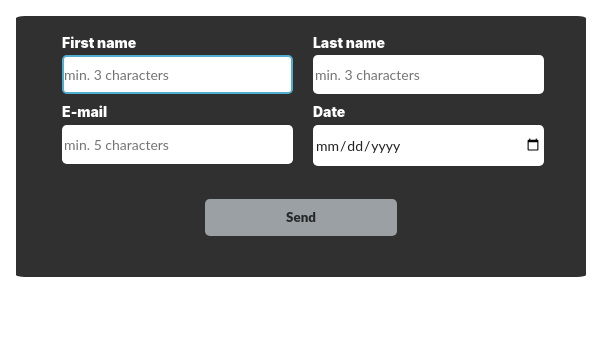
INTEGRATION › EventPicker › Inputs filling › Should display the wrong data format validation error messages when inputs were focused, incorrectly filled and blurred
Type "ka242mil" into the field labelled "First name".
click(178, 75); type("ka242mil")  # box x1=62 y1=55 x2=293 y2=94
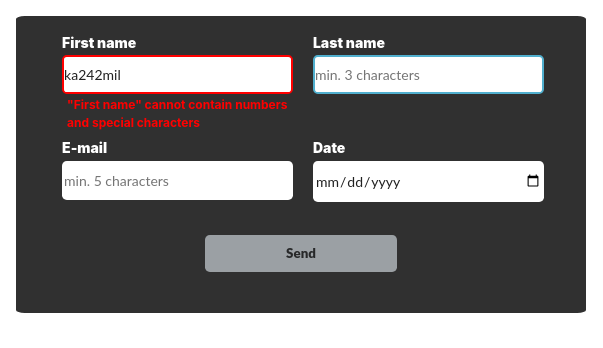
Expected: the text "\"First name\" cannot contain numbers and special characters" is shown, x1=62 y1=94 x2=289 y2=132
Type "g543" into the field labelled "Last name".
click(428, 75); type("g543")  # box x1=313 y1=55 x2=544 y2=94
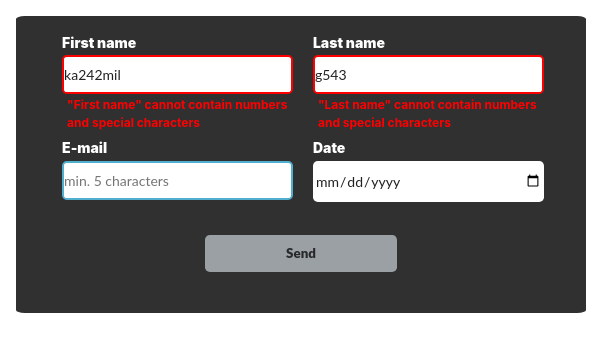
Expected: the text "\"Last name\" cannot contain numbers and special characters" is shown, x1=313 y1=94 x2=540 y2=132
Type "ds@pl" into the field labelled "E-mail".
click(178, 180); type("ds@pl")  # box x1=62 y1=161 x2=293 y2=200
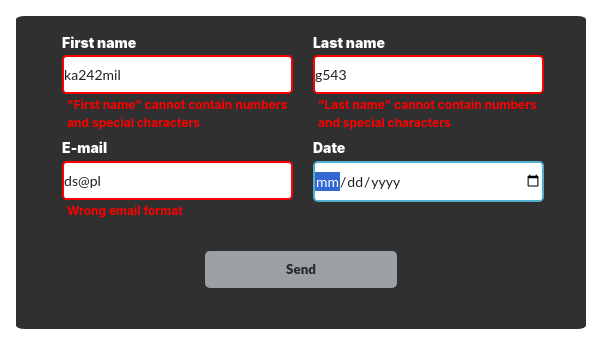
Expected: the text "Wrong email format" is shown, x1=67 y1=203 x2=183 y2=218
Type "2021-07-07" into the date field labelled "Date".
click(428, 181); type("2021-07-07")  # box x1=313 y1=161 x2=544 y2=202
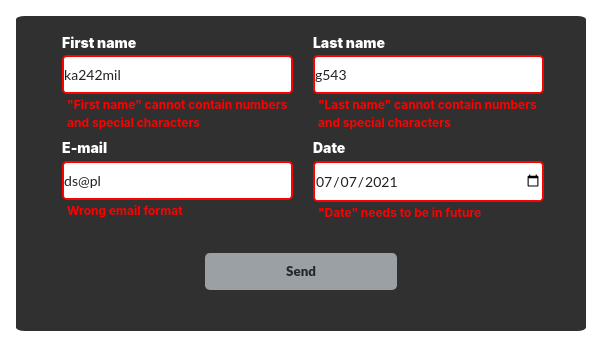
Expected: the text "\"Date\" needs to be in future" is shown, x1=318 y1=205 x2=481 y2=220
